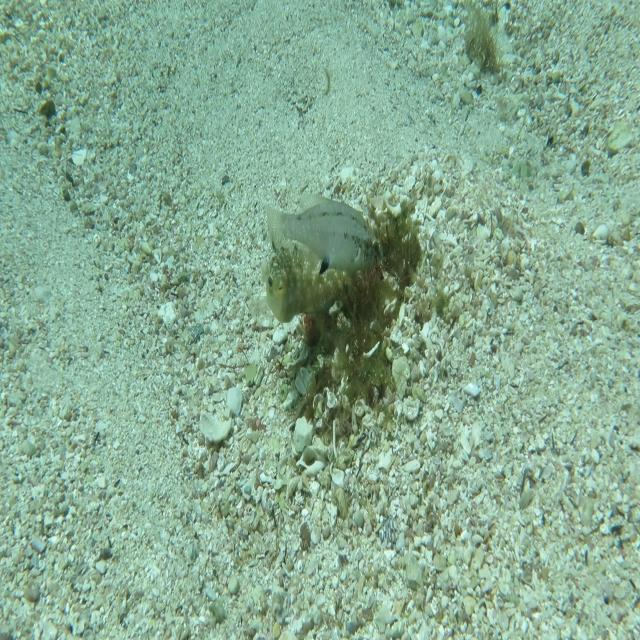DAN_CIRC: (266, 230, 364, 325)
core_nest: (346, 227, 399, 284)
female: (264, 191, 385, 277)
nest: (267, 174, 427, 440)
